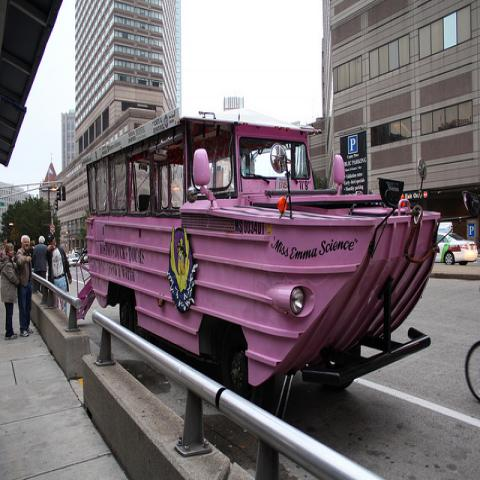car: (435, 231, 478, 265), (67, 254, 81, 267), (81, 250, 88, 265), (74, 247, 81, 256)
